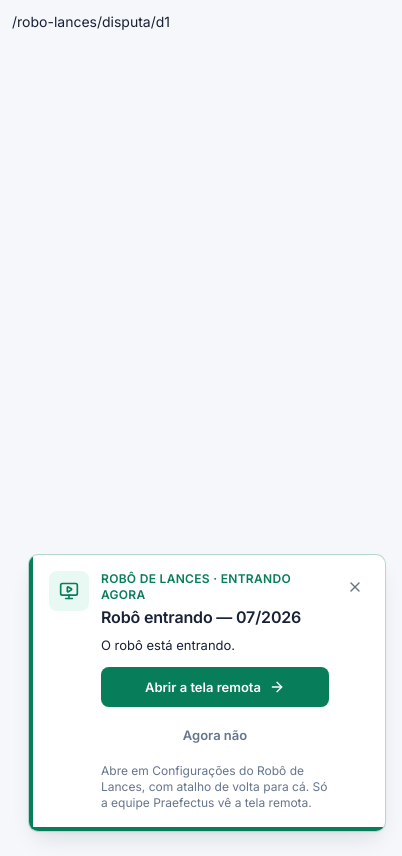
it: ChamadaDaTelaRemota › "Abrir a tela remota" leva ao admin do robô já abrindo a tela, carregando a volta para a disputa
expect the heading "Robô entrando — 07/2026" is shown: met, box [101, 605, 329, 629]
Click the button "Abrir a tela remota".
click(215, 687)  # box [101, 667, 329, 707]
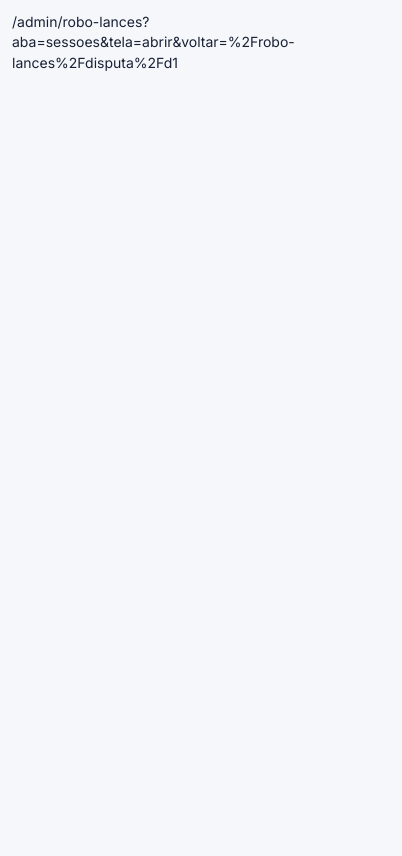
expect the text with test id "local" reads "/admin/robo-lances?aba=sessoes&tela=abrir&voltar=%2Frobo-lances%2Fdisputa%2Fd1": met, box [12, 13, 295, 71]
